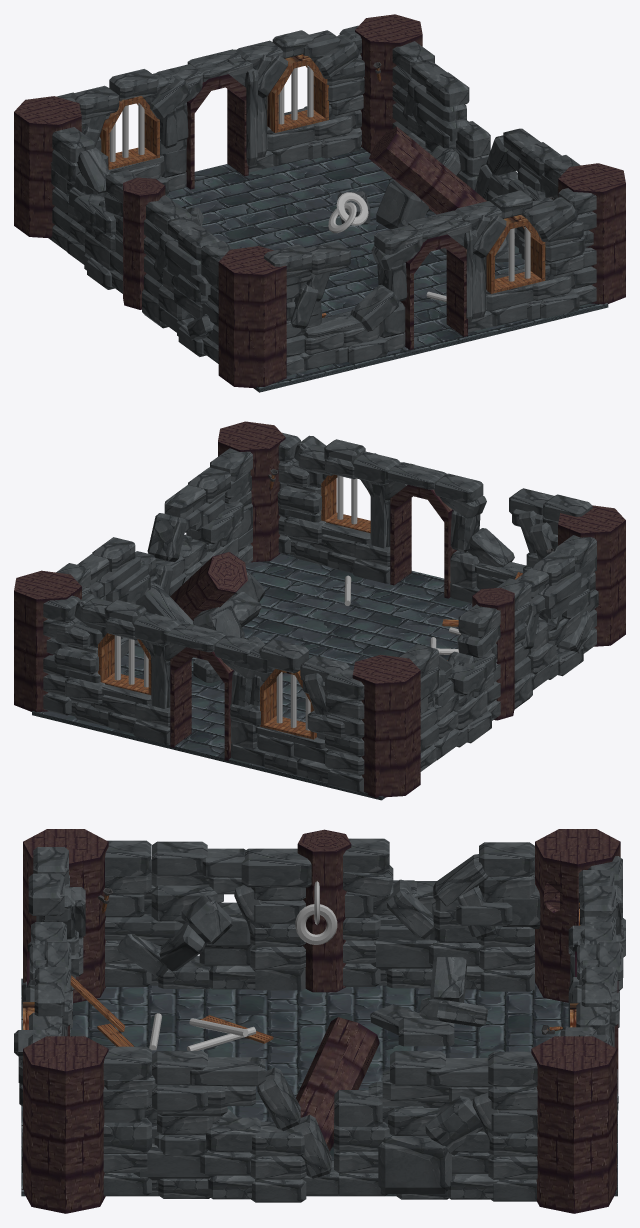
Rendered from room_destroyed.fbx.
3 renders of one model, top to bottom at view 1: azimuth 30°, elevation 25°; view 2: azimuth 150°, elevation 25°; view 3: azimuth 270°, elevation 25°, orthographic. The views are drawn at different scales.
Visible parts, largest first — view 1: pCylinder31; view 2: pCylinder31; view 3: pCylinder31.
Part boxes in pixels (x1=…): pCylinder31: x1=14, y1=14, x2=625, y2=392; pCylinder31: x1=14, y1=421, x2=625, y2=800; pCylinder31: x1=14, y1=829, x2=625, y2=1213.
Bounding box in the file's own units: 0.2097 × 0.0657 × 0.2231.
Materials: 10 (8 with a texture image).
